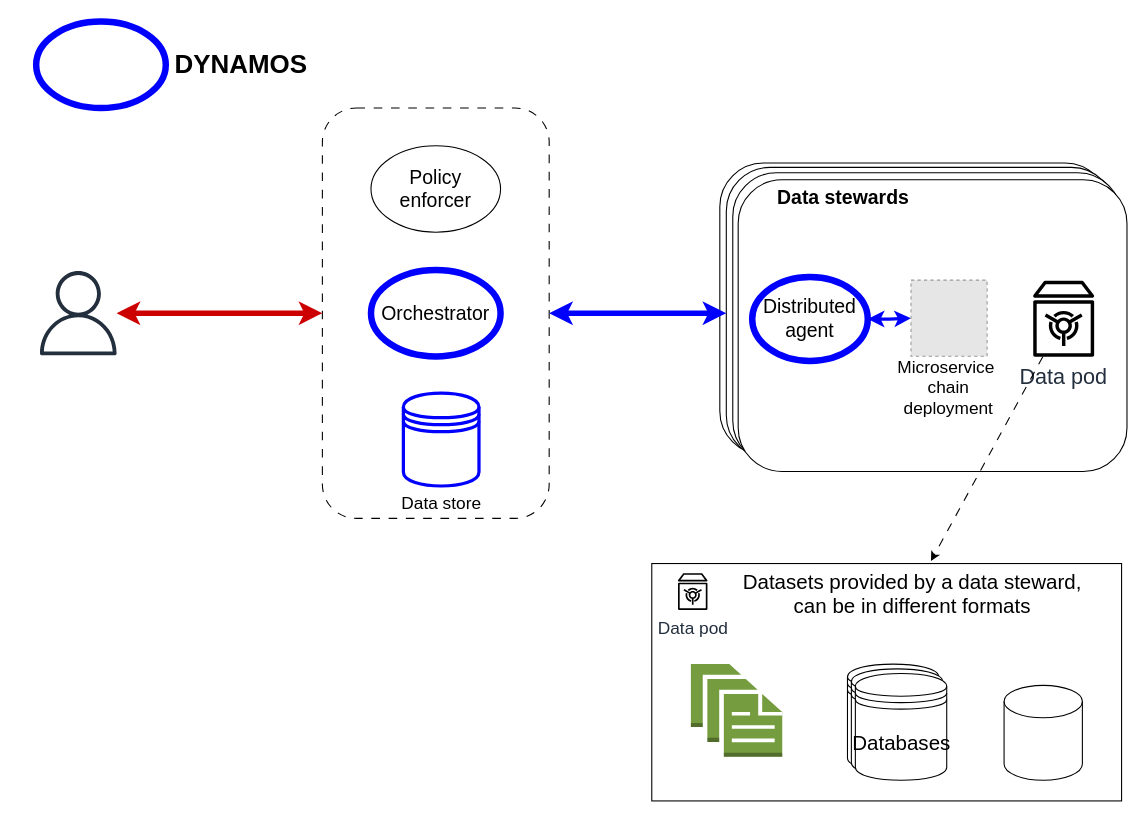
Image size: 1146x821. Some labels were removed from this diagram. Grey dashed boxes stand in for pictures. Each missing label, with the centre of its shape:
"CSV files" belongs at [736,710].
"Data analyst" belongs at [78,313].
"Other" belongs at [1042,732].
